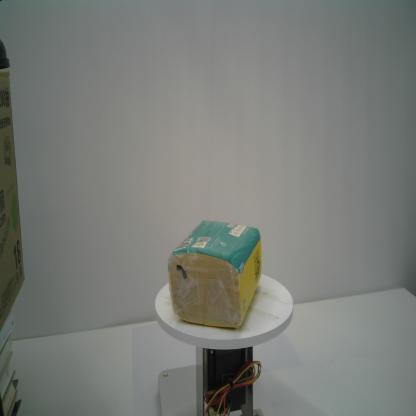Tissue: (166, 217, 262, 332)
